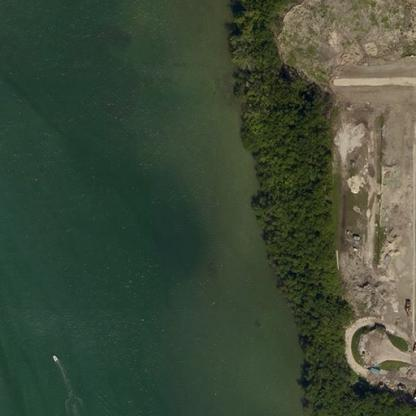ship: (49, 349, 60, 364)
